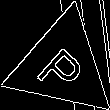P_NE: (32, 34, 91, 96)
